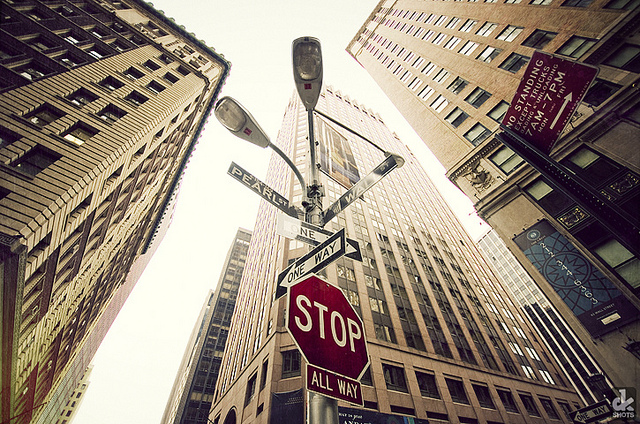Stop: (288, 271, 370, 375)
